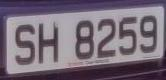2: (95, 12, 118, 64)
5: (117, 11, 141, 61)
8: (72, 13, 97, 69)
9: (139, 12, 161, 57)
H: (37, 18, 62, 72)
S: (12, 20, 39, 71)
